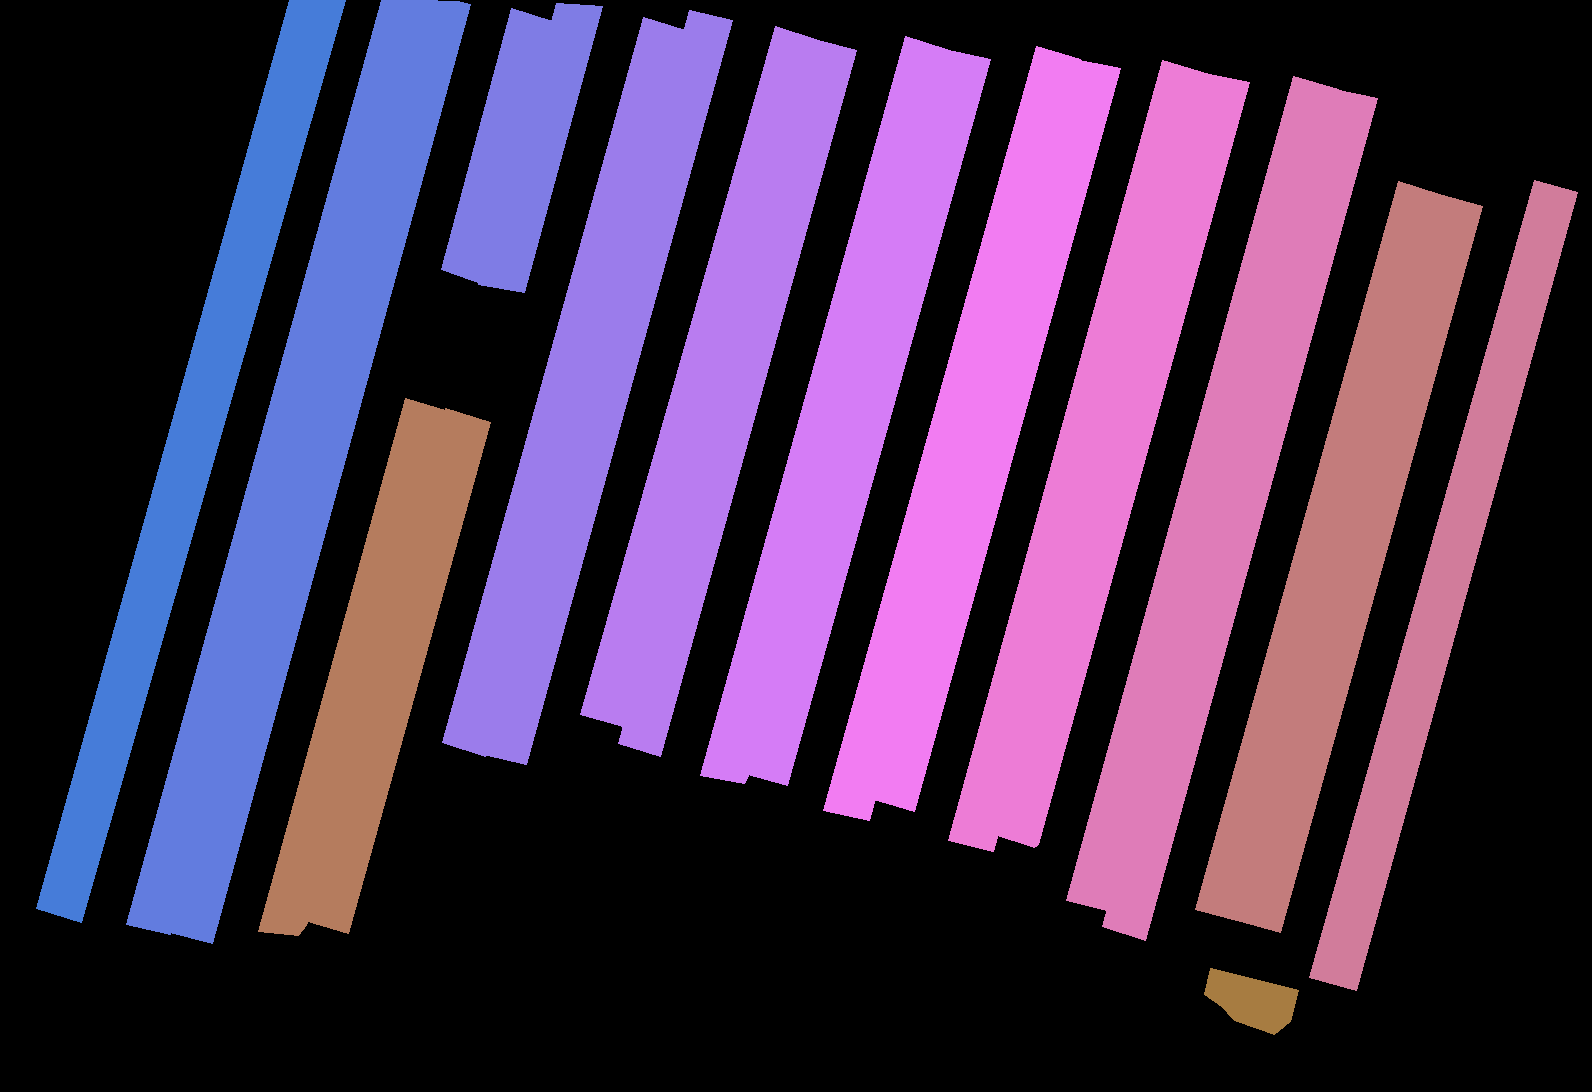parkingspot: (166, 0, 471, 943), (36, 0, 345, 921), (126, 0, 428, 934), (1102, 89, 1377, 940), (1066, 76, 1338, 911), (1309, 180, 1577, 990), (948, 60, 1209, 851), (823, 46, 1080, 820), (994, 73, 1248, 847), (870, 59, 1120, 811), (483, 10, 732, 764), (700, 36, 948, 782), (1195, 181, 1442, 921), (744, 50, 990, 785), (1238, 193, 1482, 932), (442, 17, 685, 756), (618, 39, 856, 756), (579, 27, 818, 727), (258, 398, 448, 935), (304, 408, 490, 934), (478, 2, 602, 291), (442, 8, 555, 284), (1204, 967, 1298, 1034)
